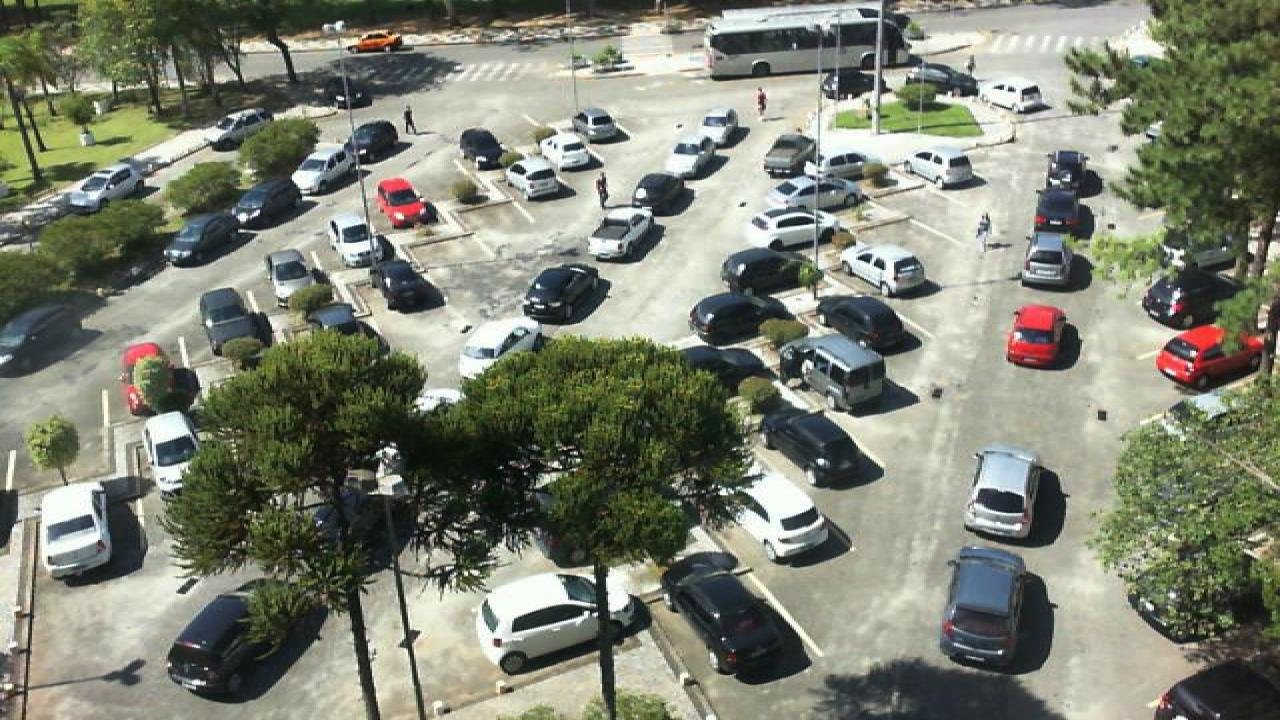Car: (470, 568, 650, 676), (662, 549, 808, 676), (164, 589, 302, 704), (940, 546, 1034, 672), (714, 468, 836, 561), (32, 482, 130, 582), (758, 406, 864, 488), (784, 334, 886, 411), (1150, 323, 1264, 388), (964, 444, 1040, 539), (686, 289, 792, 349), (114, 340, 196, 417), (522, 264, 612, 326), (138, 408, 210, 485), (1142, 267, 1230, 328), (454, 324, 544, 382), (816, 295, 904, 353), (836, 243, 930, 297), (196, 287, 268, 354), (718, 246, 810, 298), (678, 344, 778, 388), (64, 163, 150, 213), (162, 210, 238, 266), (370, 257, 440, 315), (748, 208, 842, 249), (588, 206, 656, 262), (230, 177, 302, 226), (896, 143, 974, 188), (266, 248, 322, 310), (292, 142, 358, 194), (308, 301, 374, 351), (1018, 232, 1076, 288), (778, 174, 862, 212), (202, 107, 276, 148), (376, 177, 432, 227), (630, 172, 688, 216), (330, 215, 378, 268), (1034, 188, 1088, 235), (540, 129, 600, 170), (762, 134, 820, 176), (508, 156, 562, 200), (904, 63, 978, 95), (820, 68, 888, 102), (344, 120, 398, 162), (978, 78, 1044, 112), (458, 126, 510, 168), (822, 151, 888, 183), (1046, 148, 1092, 192), (670, 136, 716, 178), (570, 108, 620, 143), (700, 108, 740, 143), (334, 74, 372, 108)
